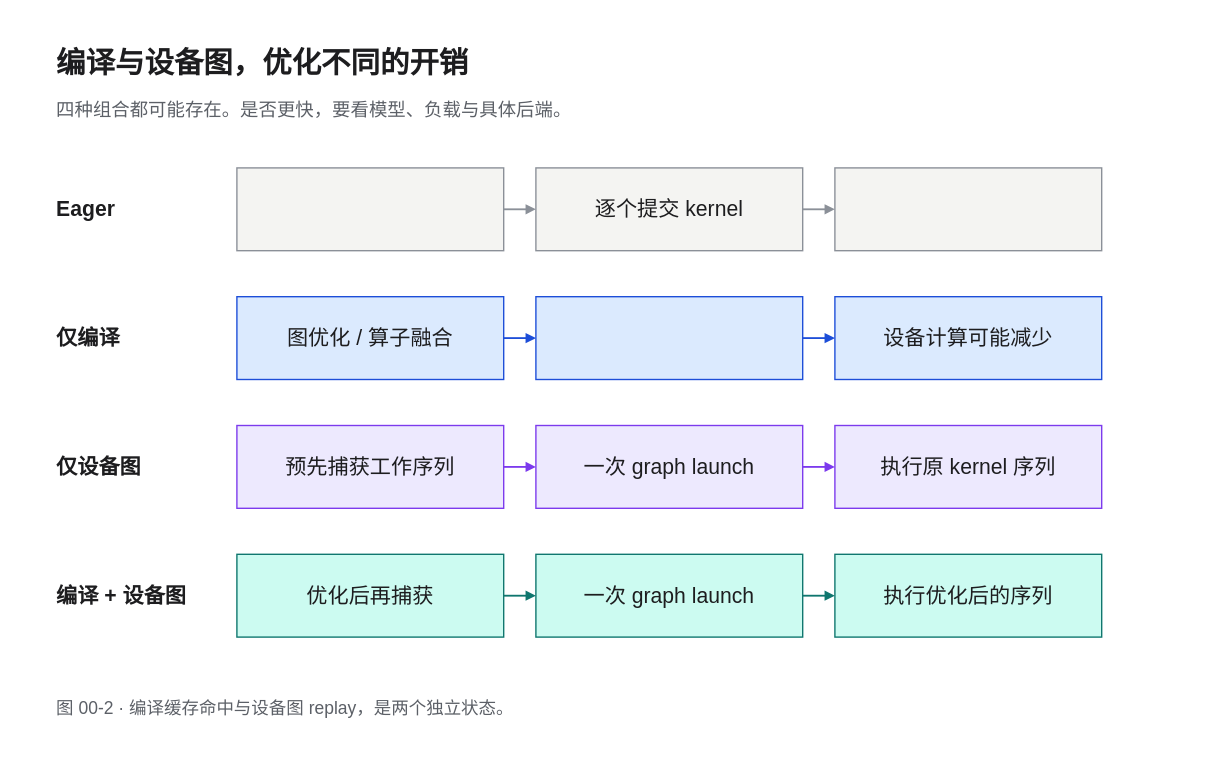
The diagram is 1209 pixels wide and 767 high, and some of its shapes have lost their labels. Each missing label, with the box of its shape:
提交生成的 kernel: (535, 296, 803, 380)
设备计算: (834, 167, 1102, 251)
逐个调用算子: (236, 167, 504, 251)
